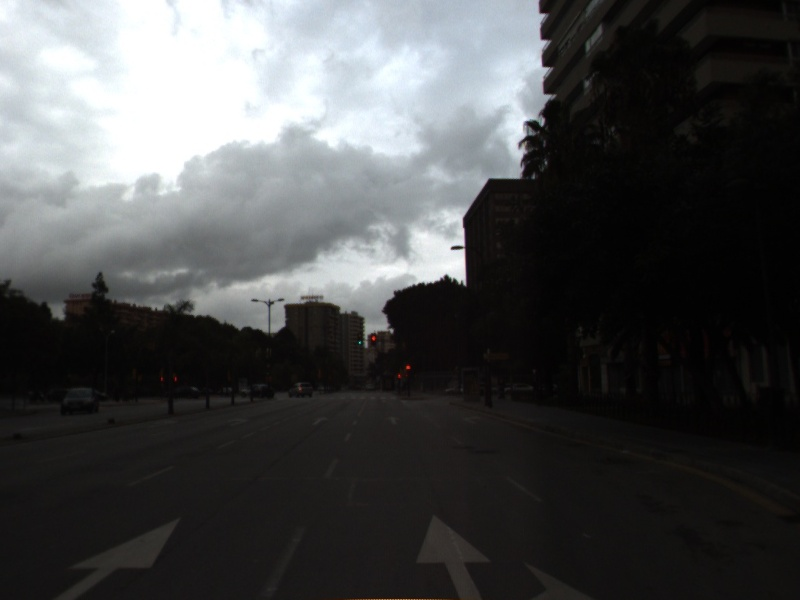LEFT: (224, 415, 251, 428)
RIGHT: (460, 413, 485, 427)
STRAIGHT: (43, 511, 189, 600), (408, 508, 497, 600), (309, 413, 332, 428), (383, 414, 404, 427)
